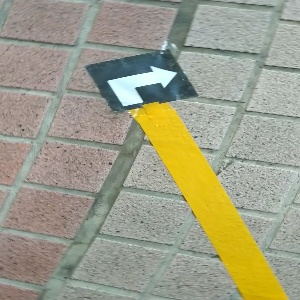right: (86, 49, 196, 111)
